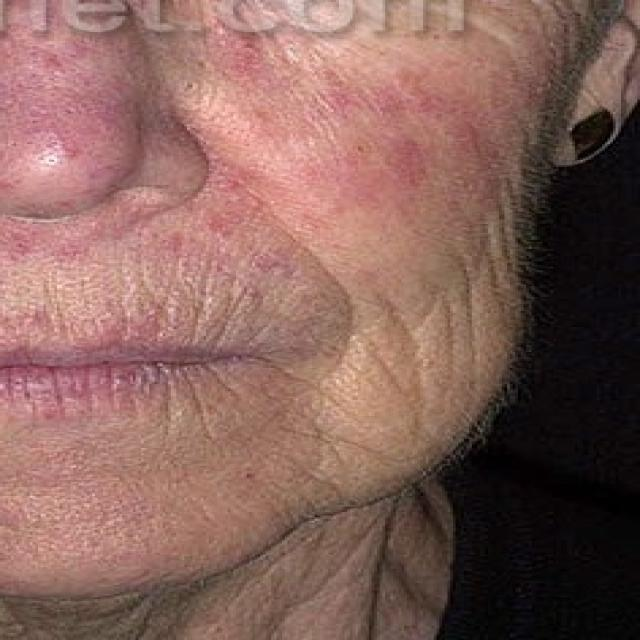Rosacea: (210, 40, 543, 186)
